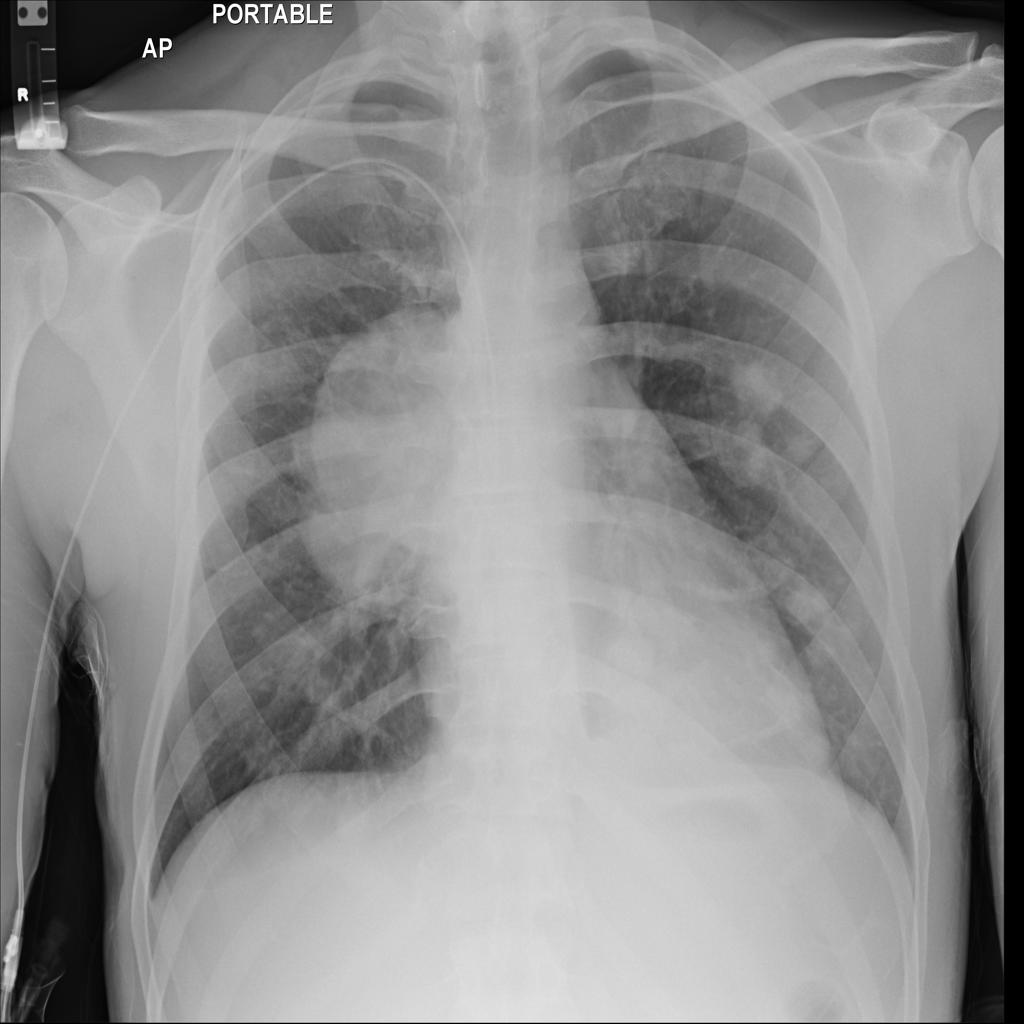nodule: (265, 326, 507, 627), (720, 345, 796, 425), (595, 613, 673, 688), (718, 415, 785, 501), (772, 564, 844, 634), (790, 725, 841, 776)
